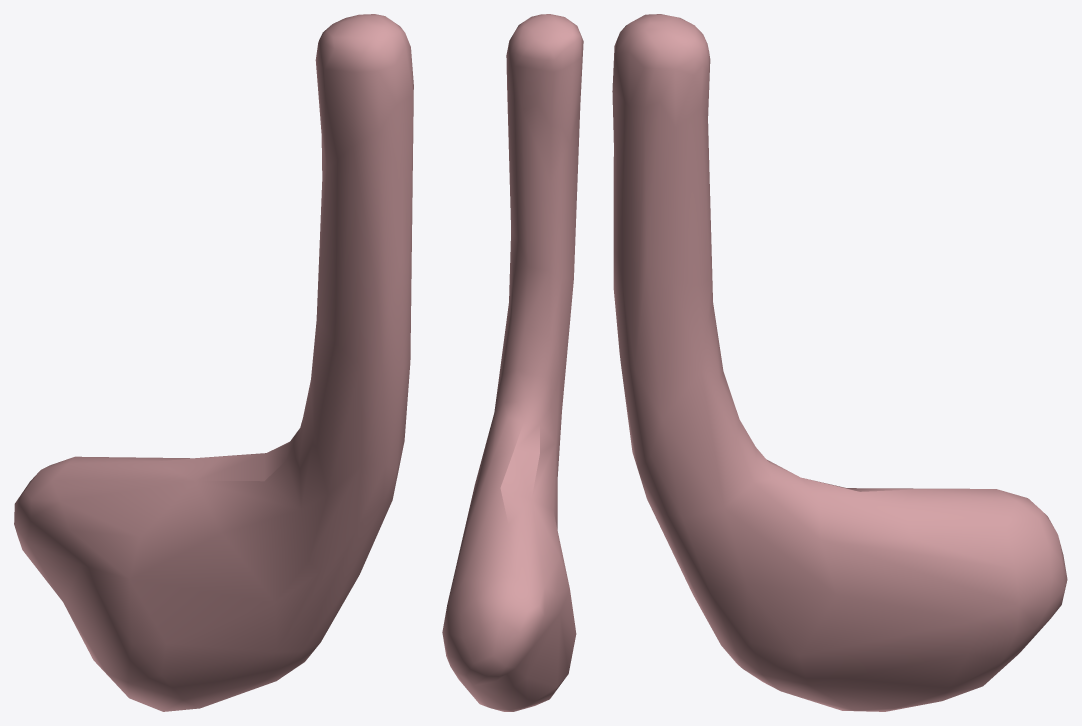
File: fma59556_fj1302.glb
The picture shows the model from 3 angles, left to right: view 1: azimuth 30°, elevation 25°; view 2: azimuth 150°, elevation 25°; view 3: azimuth 270°, elevation 25°; orthographic projection. The views are drawn at different scales.
Visible parts, largest first — view 1: FMA59556_FJ1302; view 2: FMA59556_FJ1302; view 3: FMA59556_FJ1302.
Part boxes in pixels (x1,y1,x2,y2): FMA59556_FJ1302: (14, 14, 413, 711); FMA59556_FJ1302: (442, 14, 583, 711); FMA59556_FJ1302: (612, 14, 1067, 711).
Size of the model in its own units: 0.00498 by 0.0169 by 0.00953.
